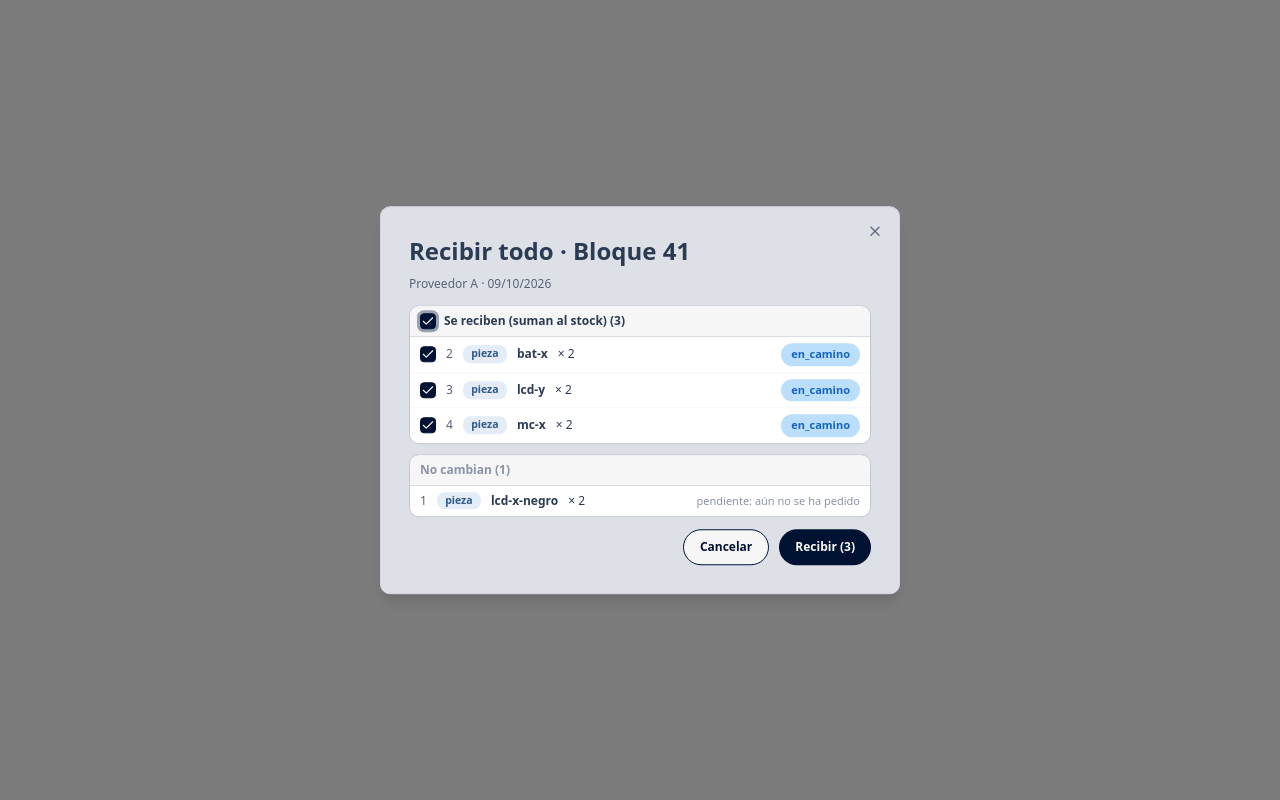
Test: AccionBloqueDialog con casillas (0.9.13) › el aviso de desmarcadas está montado y vacío al abrir, y se rellena al desmarcar una
The width and height of the screenshot is (1280, 800).
Click the checkbox named "lcd-y (ID 3)". click: (428, 390)
box: [420,382,436,398]
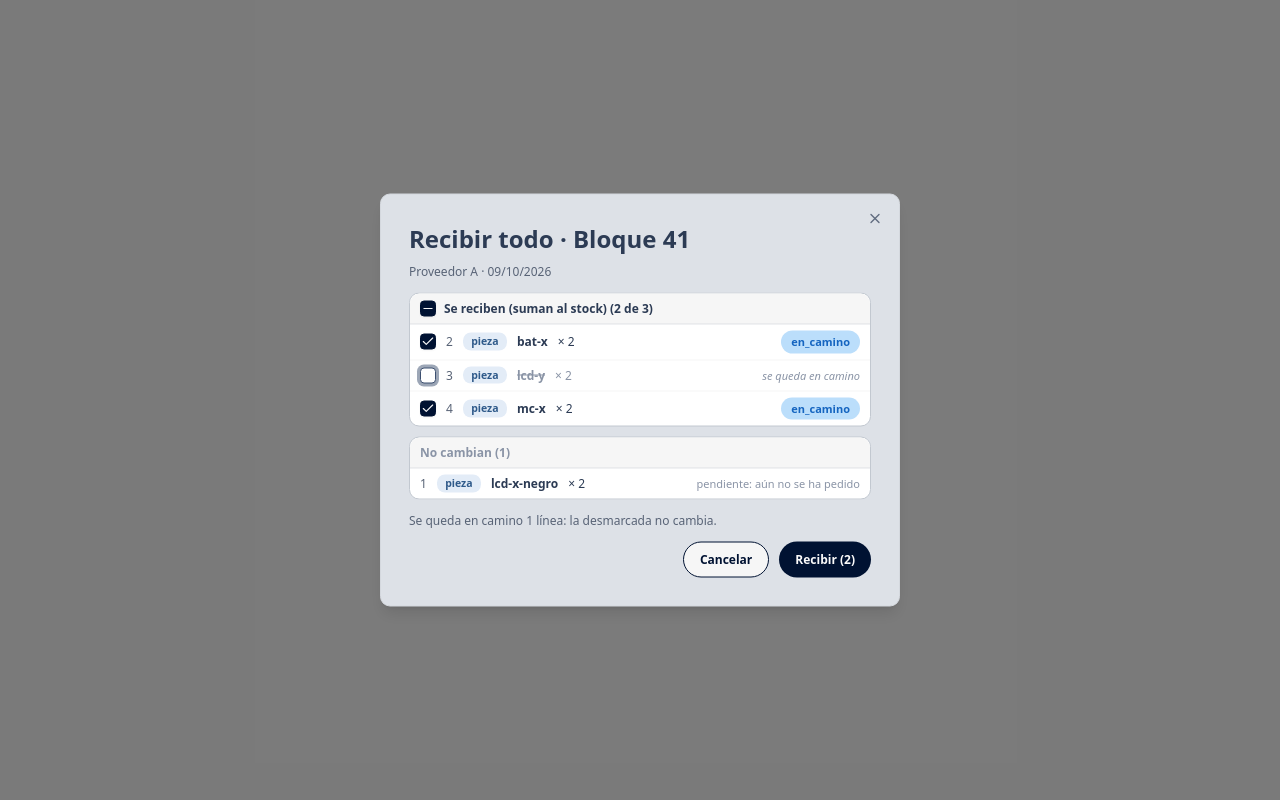
Result: the message reads "Se queda en camino 1 línea: la desmarcada no cambia." at [409,512,717,528]
